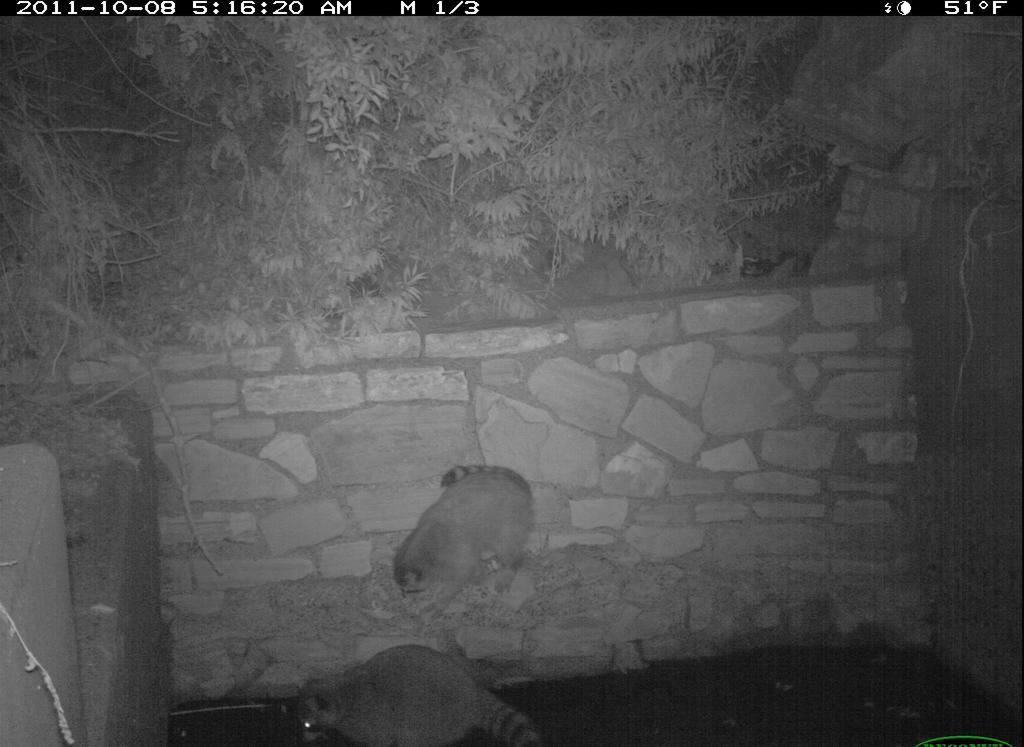raccoon: (373, 452, 541, 614), (295, 639, 552, 740)
